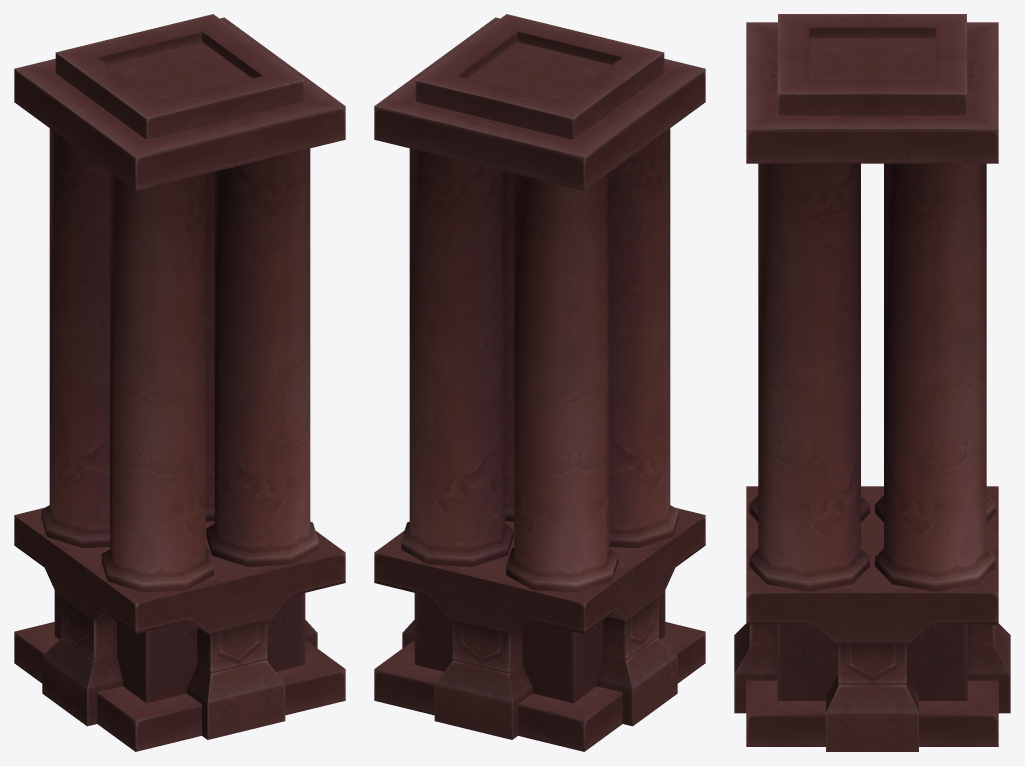
The model's file is Dungeons_03_02_11.FBX.
The picture shows the model from 3 angles, left to right: view 1: azimuth 30°, elevation 25°; view 2: azimuth 150°, elevation 25°; view 3: azimuth 270°, elevation 25°; orthographic projection. The views are drawn at different scales.
Parts seen in each view (by area): view 1: Object336; view 2: Object336; view 3: Object336.
Boxes of the visible parts, x1,y1,x2,y2 form: Object336: (14, 14, 345, 751); Object336: (374, 14, 705, 751); Object336: (734, 14, 1010, 751).
Size of the model in its own units: 30.99 by 79.08 by 30.99.
